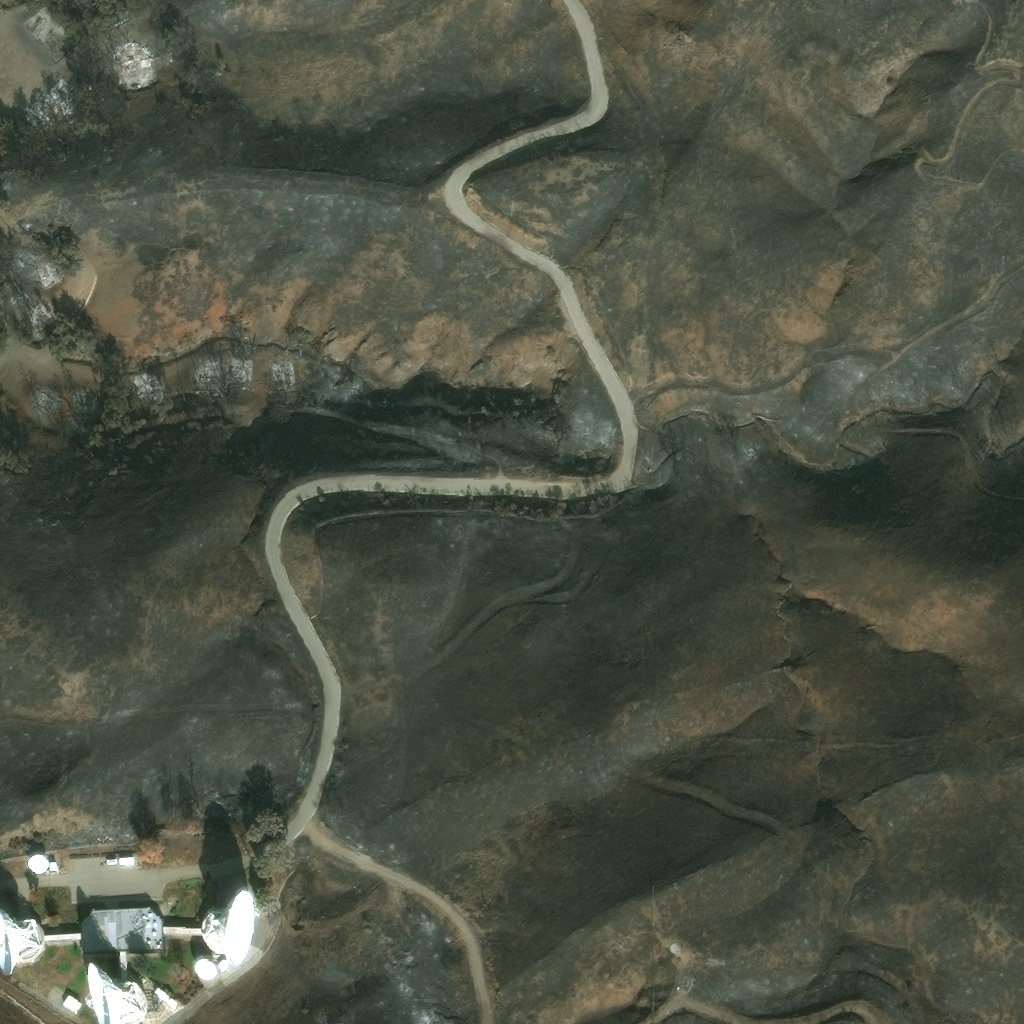0 no-damage: (163, 892, 254, 970), (86, 953, 147, 1023), (80, 906, 163, 955), (0, 912, 46, 976), (151, 984, 178, 1009), (194, 953, 217, 979), (44, 932, 80, 945), (26, 854, 48, 873), (62, 993, 81, 1012), (48, 861, 58, 872), (119, 857, 133, 864), (105, 857, 117, 864)
3 destroyed: (191, 350, 241, 391), (31, 74, 73, 114), (113, 40, 153, 77), (35, 253, 66, 286), (133, 376, 167, 405), (32, 296, 59, 325), (69, 386, 97, 413), (31, 386, 60, 412), (47, 30, 70, 52), (252, 343, 276, 362), (274, 348, 294, 367), (271, 367, 293, 382), (71, 0, 94, 13), (192, 37, 208, 52), (682, 974, 692, 992), (960, 1006, 976, 1016), (114, 1, 127, 13)
